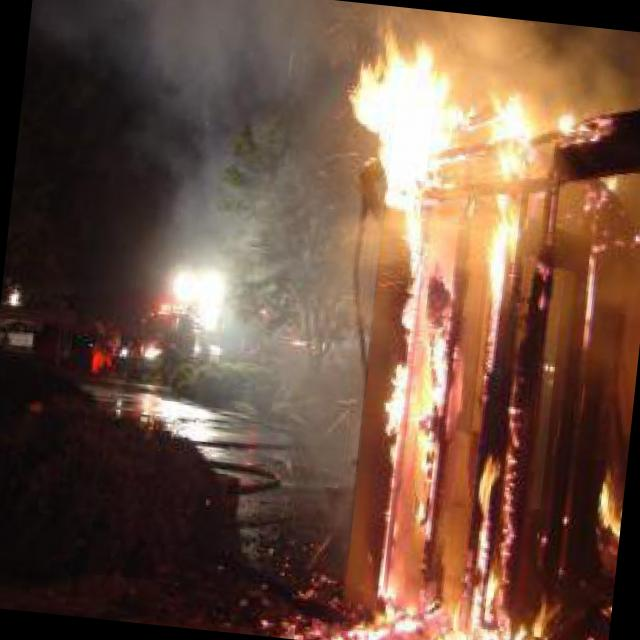fire: (295, 53, 552, 640), (560, 170, 628, 368), (582, 448, 628, 564), (491, 584, 563, 640)
smoke: (100, 28, 356, 376)
